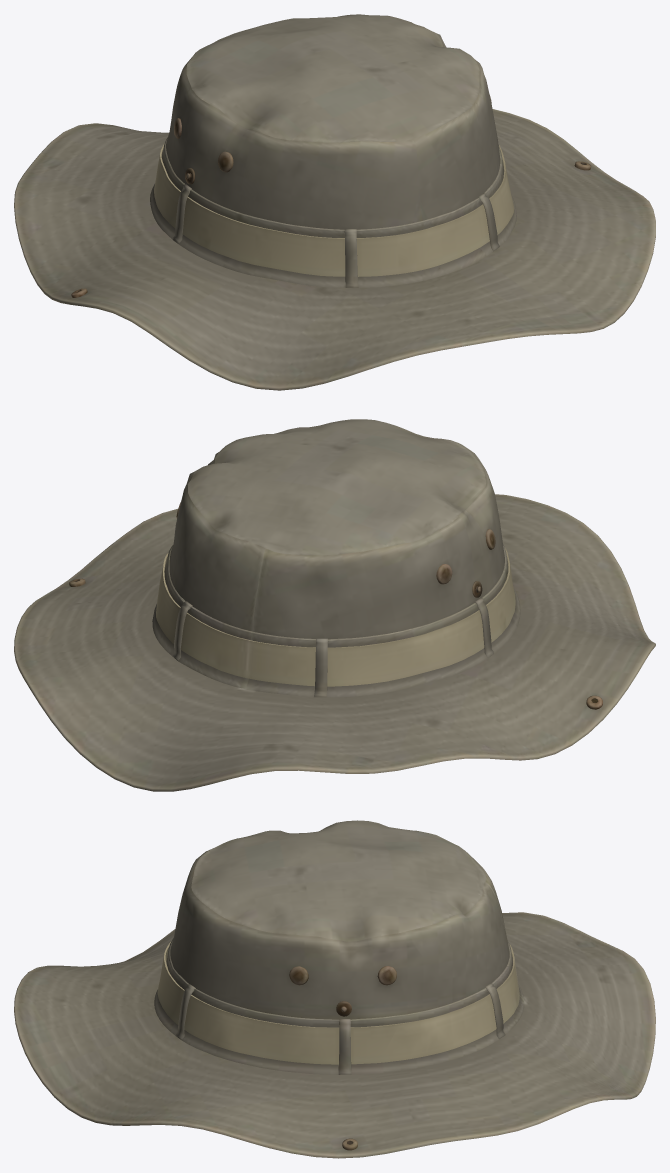
The model's file is fisherman_hat.glb.
The picture shows the model from 3 angles, top to bottom: view 1: azimuth 30°, elevation 25°; view 2: azimuth 150°, elevation 25°; view 3: azimuth 270°, elevation 25°; orthographic projection. The views are drawn at different scales.
Parts seen in each view (by area): view 1: fishermans_hat; view 2: fishermans_hat; view 3: fishermans_hat.
Boxes of the visible parts, x1,y1,x2,y2 form: fishermans_hat: (14,14,655,390); fishermans_hat: (14,419,655,791); fishermans_hat: (14,820,655,1158).
Bounding box in the file's own units: 0.3236 × 0.1239 × 0.35.
1 material, 1 textured.
